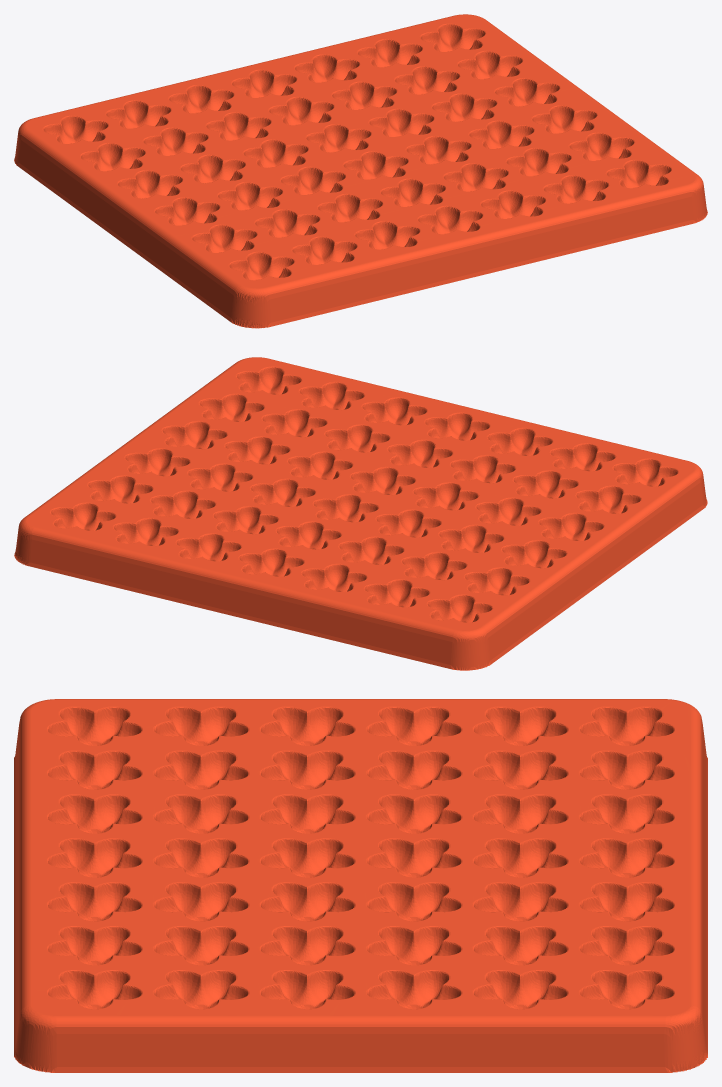
File: mold.glb
3 renders of one model, top to bottom at view 1: azimuth 30°, elevation 25°; view 2: azimuth 150°, elevation 25°; view 3: azimuth 270°, elevation 25°, orthographic. The views are drawn at different scales.
Parts seen in each view (by area): view 1: geometry_0; view 2: geometry_0; view 3: geometry_0.
Boxes of the visible parts, x1,y1,x2,y2 form: geometry_0: (14,14,707,328); geometry_0: (14,357,707,670); geometry_0: (14,699,707,1072).
Size of the model in its own units: 0.1619 by 0.0113 by 0.1437.
